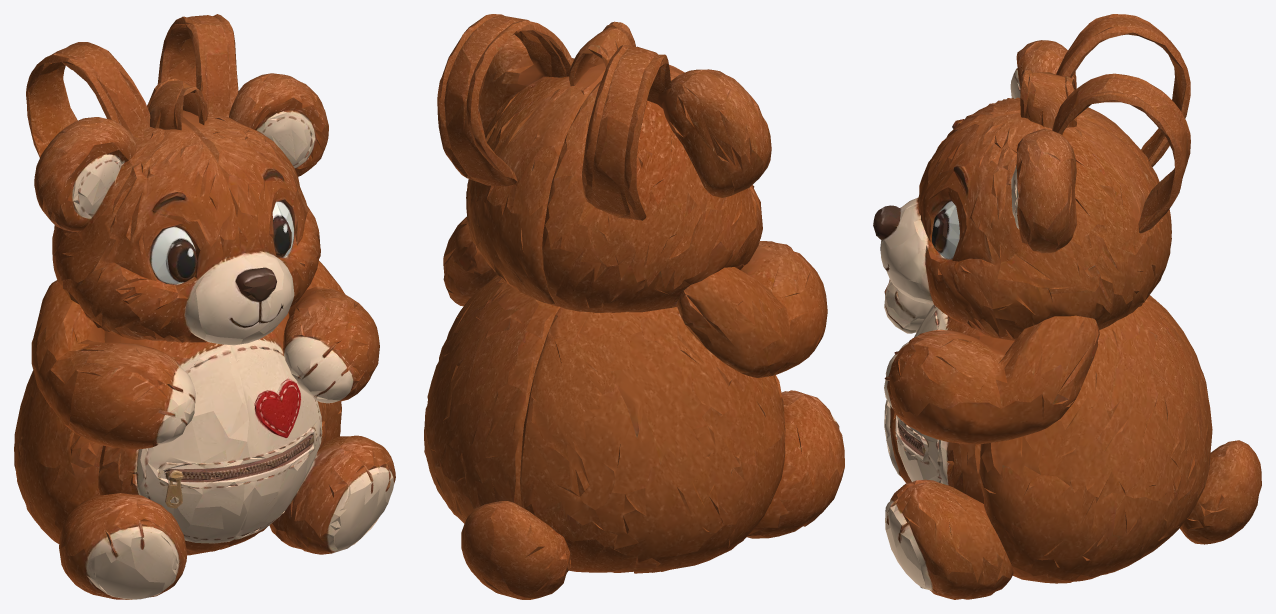
File: teddy_pack.glb
3 renders of one model, left to right at view 1: azimuth 30°, elevation 25°; view 2: azimuth 150°, elevation 25°; view 3: azimuth 270°, elevation 25°, orthographic. The views are drawn at different scales.
Parts seen in each view (by area): view 1: Mesh_0; view 2: Mesh_0; view 3: Mesh_0.
Boxes of the visible parts, x1,y1,x2,y2 form: Mesh_0: [14, 14, 395, 599]; Mesh_0: [424, 14, 844, 599]; Mesh_0: [873, 14, 1261, 599].
Bounding box in the file's own units: 0.7185 × 1 × 0.7243.
1 material, 1 textured.
